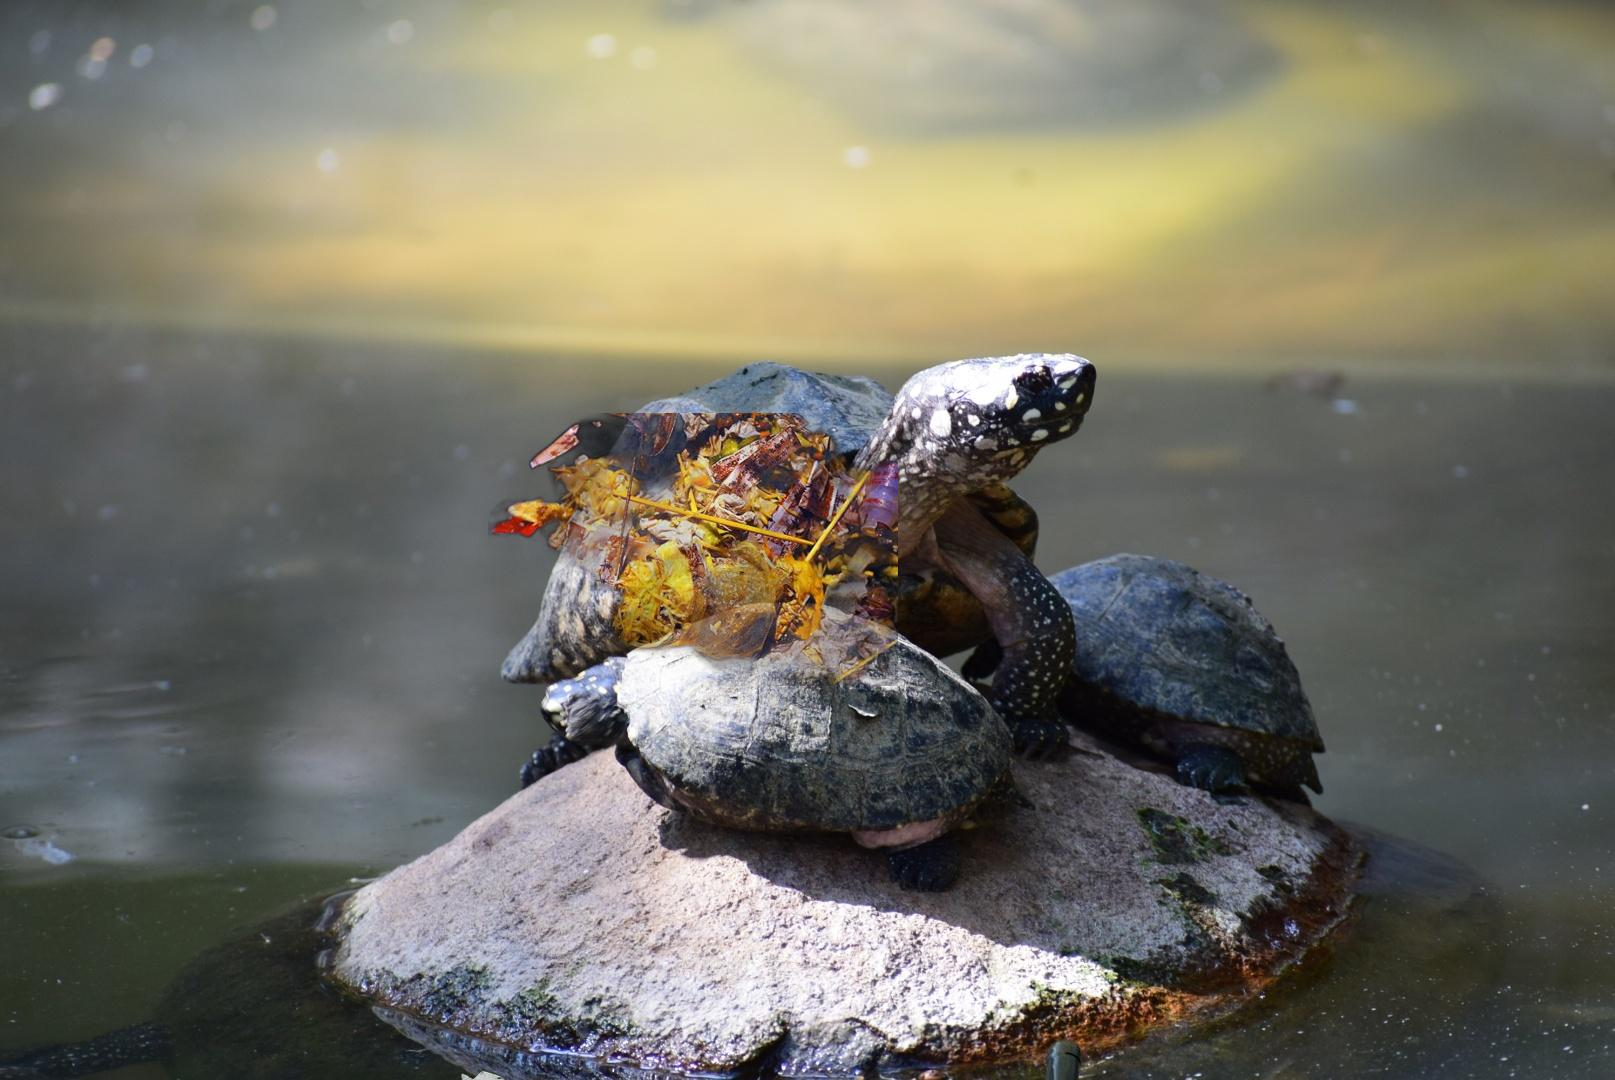biological: (488, 413, 898, 686)
clothes: (1601, 401, 1615, 781)
glass: (977, 1034, 1108, 1080)
plastic-bag: (412, 1069, 598, 1080)
